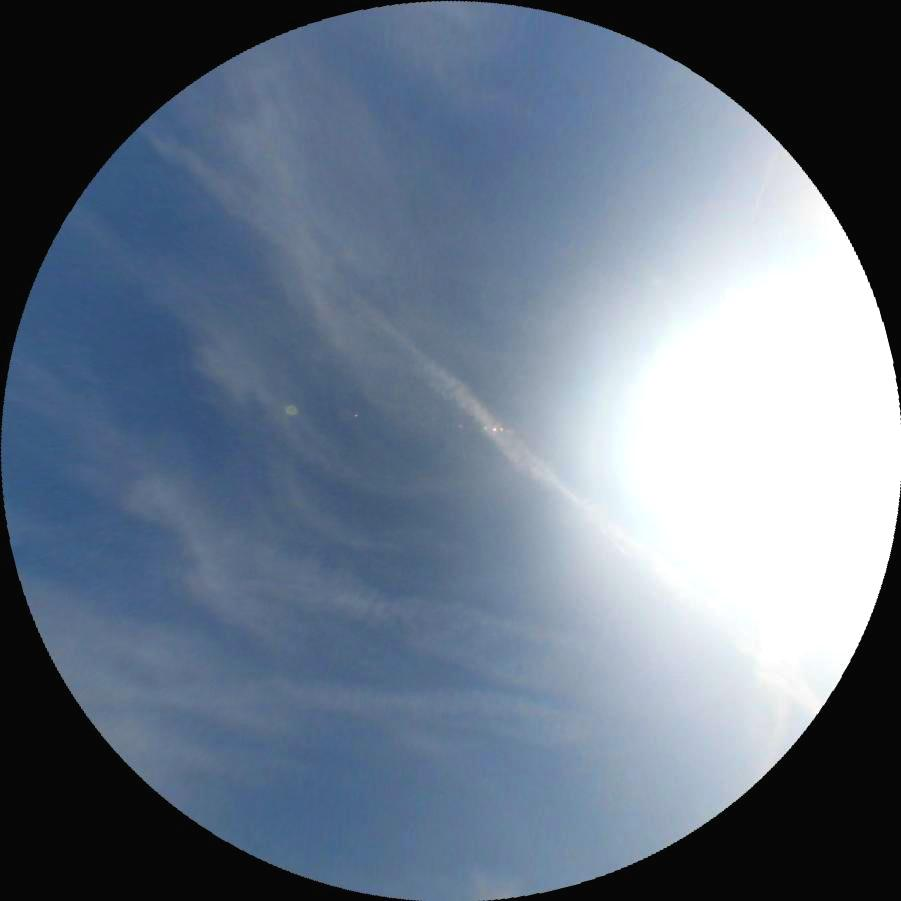contrail veryold: (136, 113, 828, 721), (237, 542, 611, 707), (267, 656, 594, 751)
contrail young: (711, 144, 781, 336), (597, 526, 632, 558)
sun: (653, 309, 901, 581)
